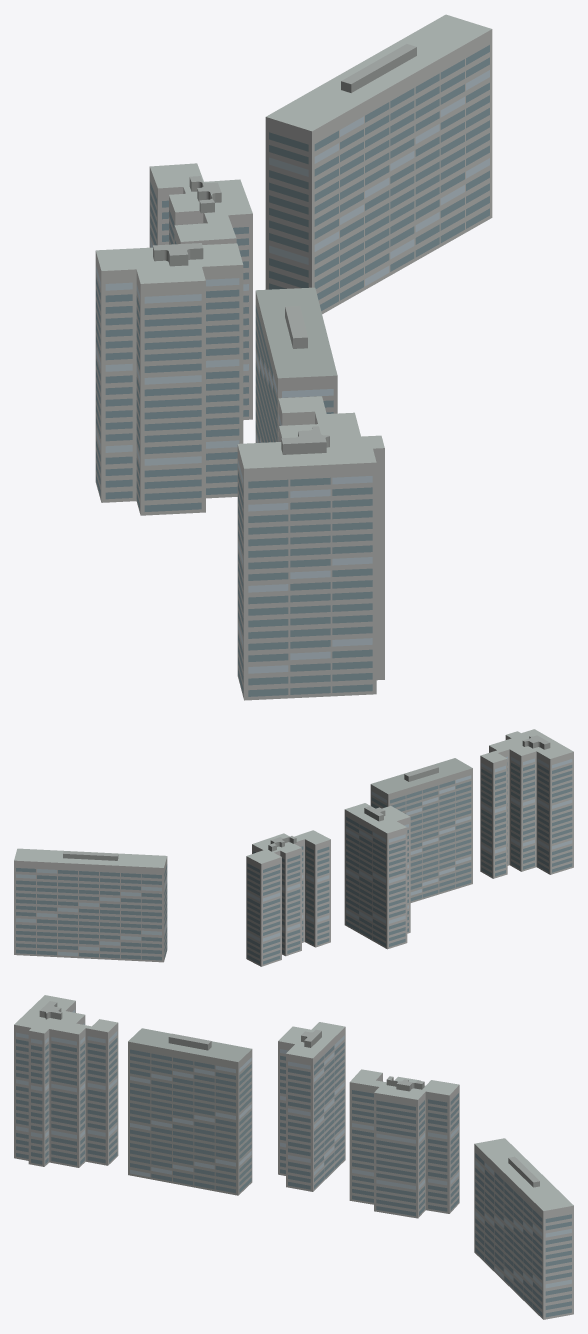
File: apt-a14206307.glb
3 renders of one model, top to bottom at view 1: azimuth 30°, elevation 25°; view 2: azimuth 150°, elevation 25°; view 3: azimuth 270°, elevation 25°, orthographic. The views are drawn at different scales.
Parts seen in each view (by area): view 1: apt-a14206307; view 2: apt-a14206307; view 3: apt-a14206307.
Boxes of the visible parts, x1,y1,x2,y2 form: apt-a14206307: (95, 14, 492, 700); apt-a14206307: (14, 729, 573, 966); apt-a14206307: (14, 995, 573, 1319).
Bounding box in the file's own units: 159 × 54 × 196.
